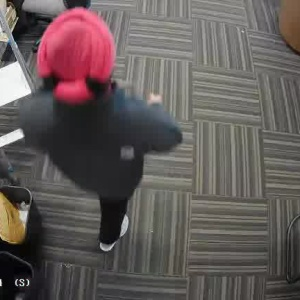person: (28, 9, 166, 242)
